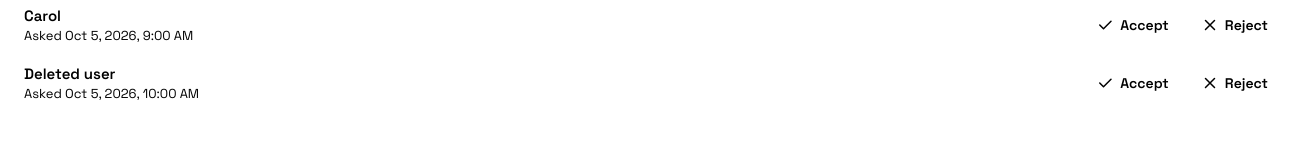
Test: JoinRequests › accepts and rejects, announcing the outcome
What coordinates should you click on to do the following:
click the button with aria-label "Accept Carol"
I would click on:
 (1132, 25)
Its box is [1084,16,1181,34].
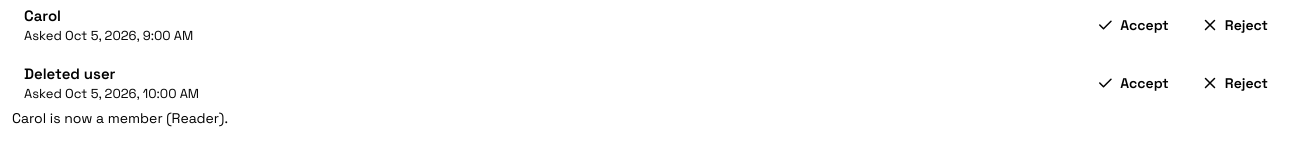
Check: the message reads "Carol is now a member (Reader).", box [12,109,228,127]
What coordinates should you click on to do the following:
click the button with aria-label "Reject Deleted user"
I would click on:
 (1234, 83)
Its box is [1189,74,1280,92].
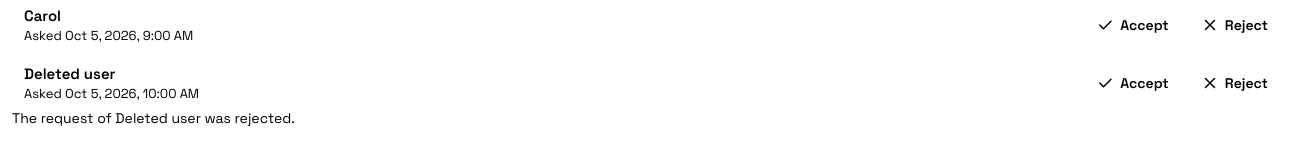
Check: the message reads "The request of Deleted user was rejected.", box [12,109,295,127]
